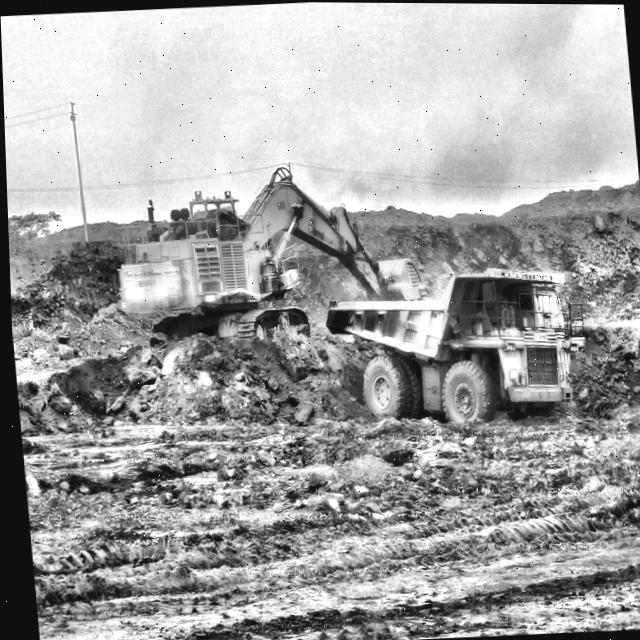dump_truck: (309, 275, 569, 422)
excavator: (118, 165, 363, 344)
